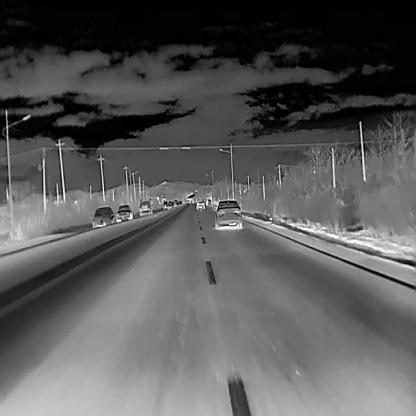car: (214, 199, 242, 230), (91, 206, 115, 229), (115, 204, 133, 223), (195, 199, 205, 211), (166, 199, 174, 209), (162, 200, 168, 210), (204, 198, 210, 206), (173, 198, 177, 206), (178, 199, 182, 204), (176, 200, 178, 204)
truck: (138, 197, 154, 217)
